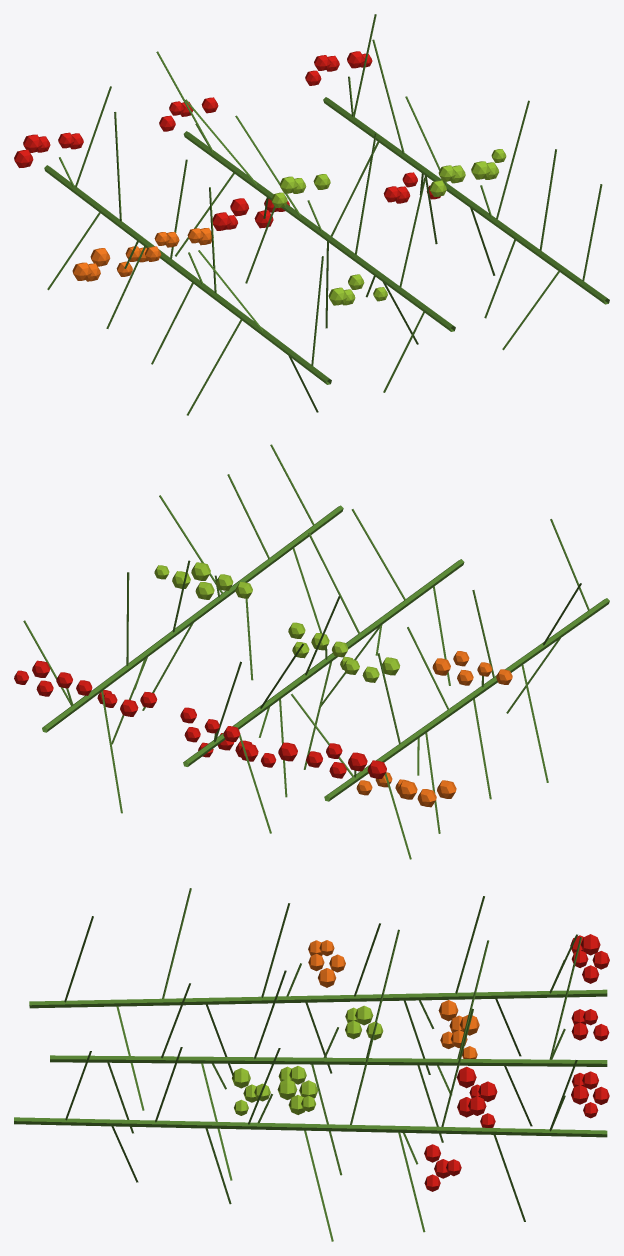
Rendered from r13c0_stems.obj.
The picture shows the model from 3 angles, top to bottom: view 1: azimuth 30°, elevation 25°; view 2: azimuth 150°, elevation 25°; view 3: azimuth 270°, elevation 25°; orthographic projection. The views are drawn at different scales.
Parts seen in each view (by area): view 1: r13c0_stems; view 2: r13c0_stems; view 3: r13c0_stems.
Part boxes in pixels (left/top/right/bottom): r13c0_stems: left=14, top=14, right=609, bottom=415; r13c0_stems: left=14, top=444, right=609, bottom=859; r13c0_stems: left=14, top=888, right=609, bottom=1241.
Bounding box in the file's own units: 1.48 × 0.8245 × 1.97.
